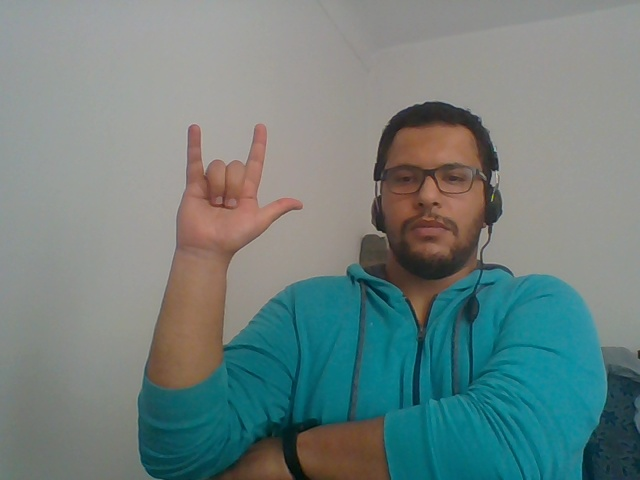iloveyou: (139, 103, 313, 315)
